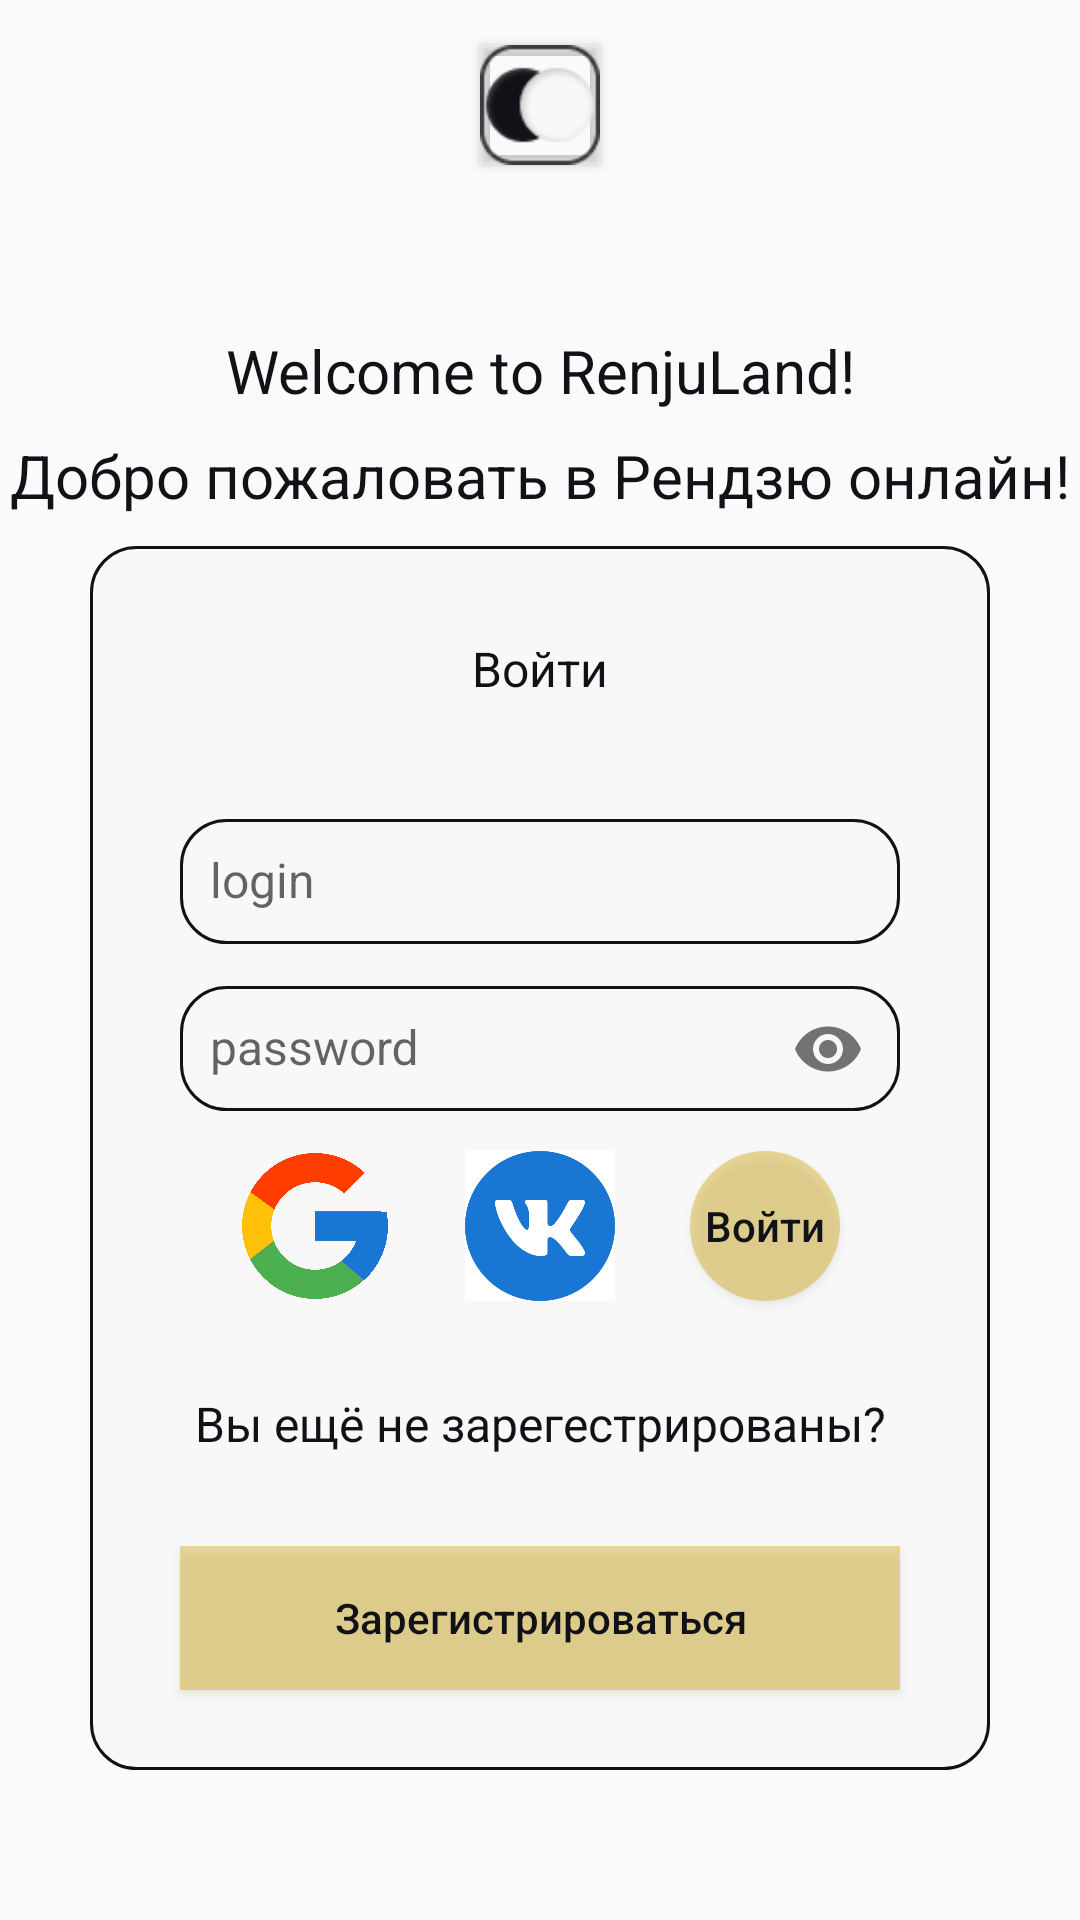

Icons on this 1080px x 1920px Android screen, each with its box as {"left": x1, "top": y1, "right": x2, "bottom": y2}:
emblema: {"left": 480, "top": 45, "right": 600, "bottom": 165}
